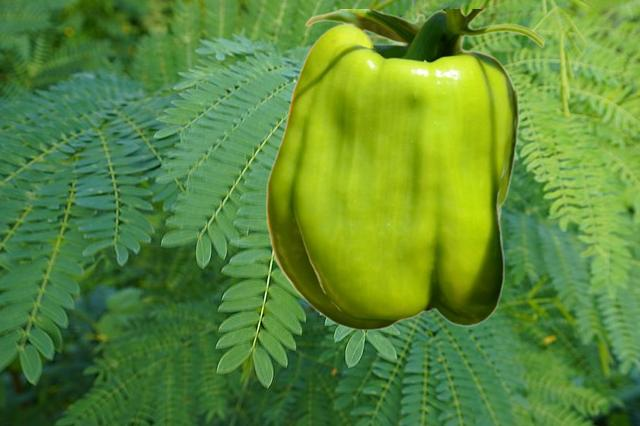bell_pepper: (265, 9, 544, 330)
